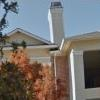Chimney: (38, 2, 78, 48)
